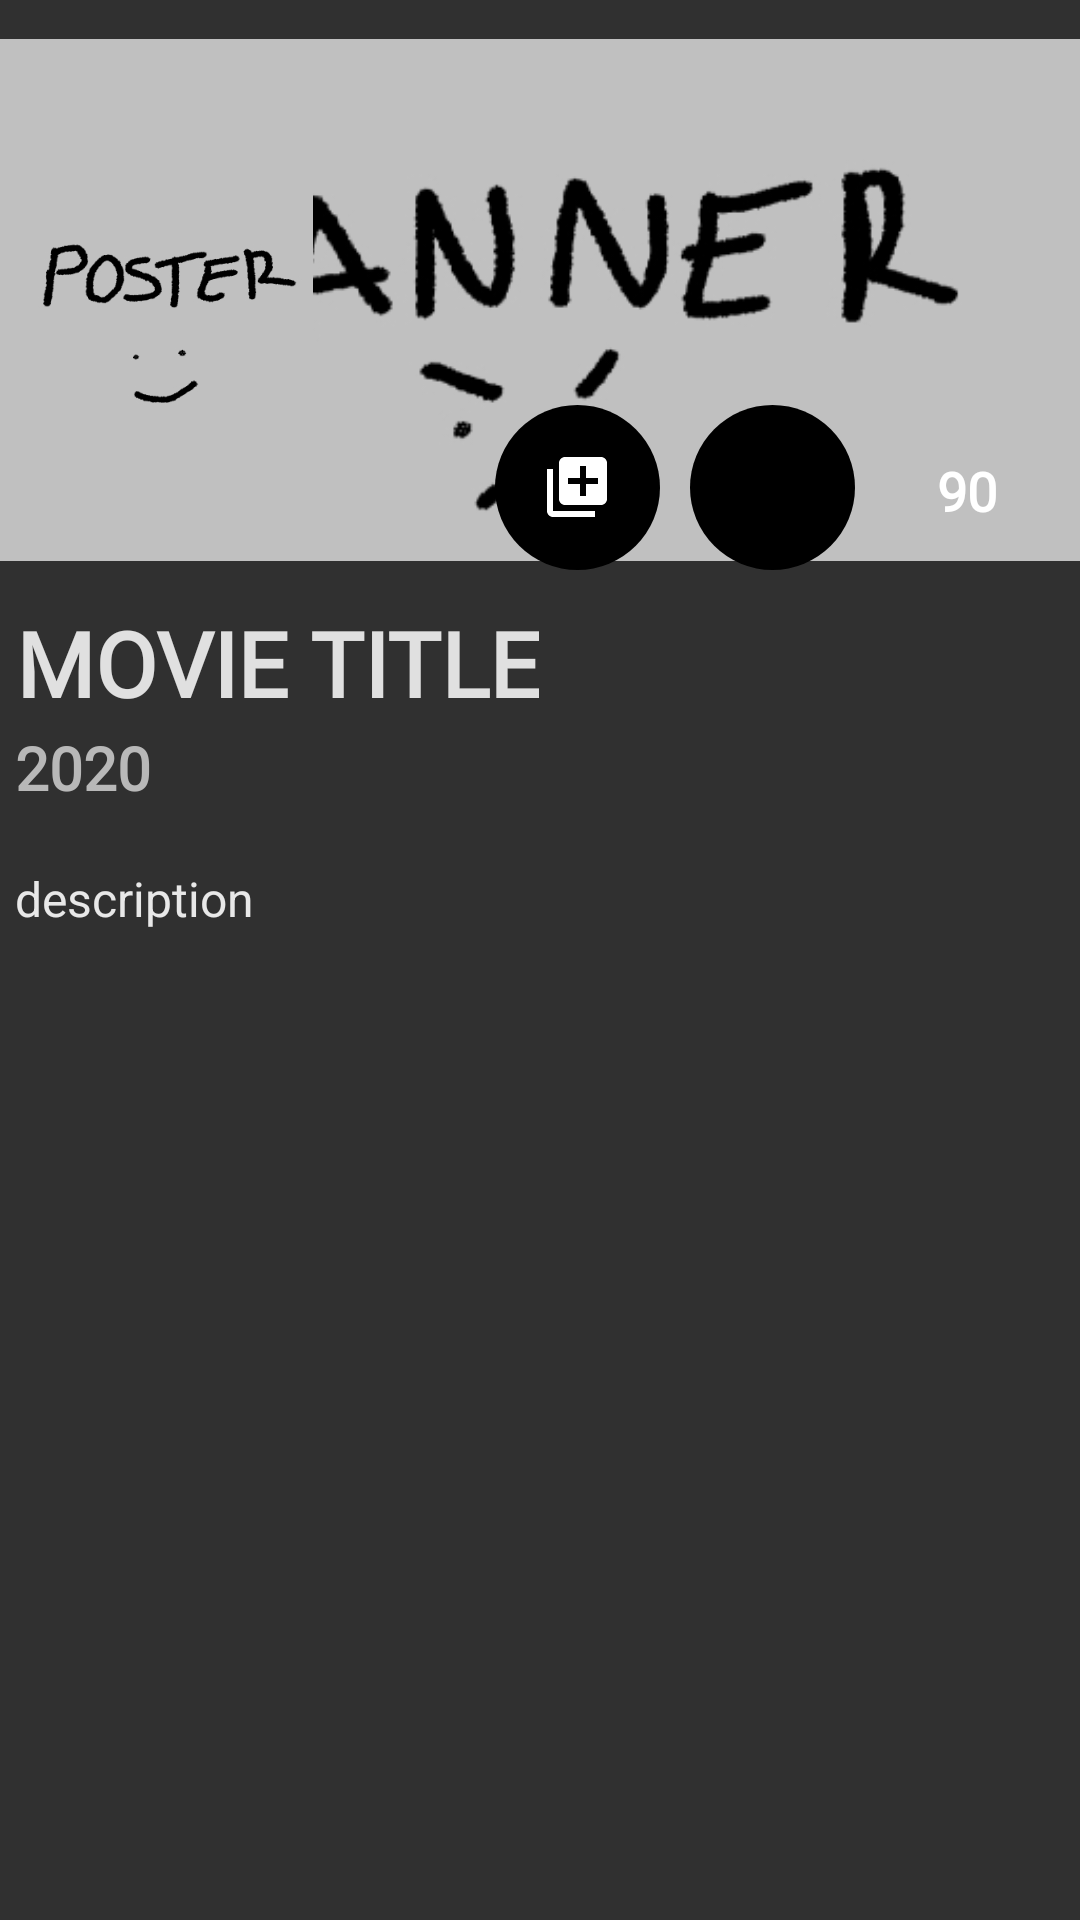

Icon click points for this 1080 x 1920 phone screenshot, format (x,y):
Add to collection: (577,487)
